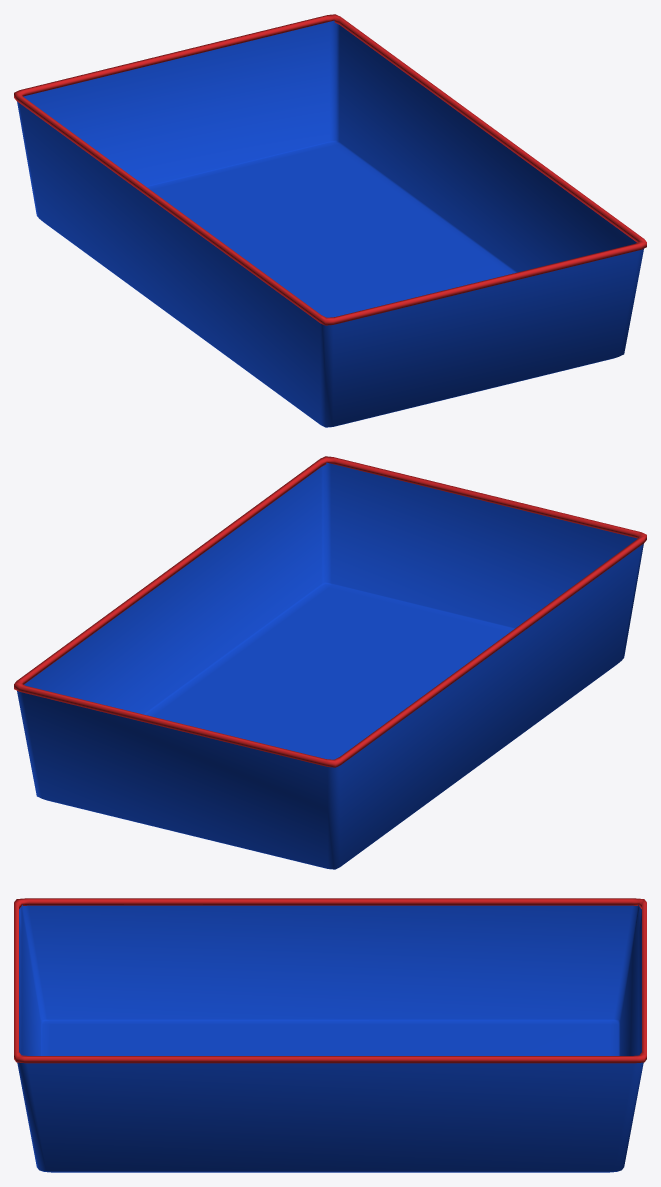
Rendered from MOD_FUR_Closet_02_Drawer_01.fbx.
3 views of the same model, one above another, from view 1: azimuth 30°, elevation 25°; view 2: azimuth 150°, elevation 25°; view 3: azimuth 270°, elevation 25° (orthographic).
Parts seen in each view (by area): view 1: MOD_FUR_Closet_02_Drawer_01; view 2: MOD_FUR_Closet_02_Drawer_01; view 3: MOD_FUR_Closet_02_Drawer_01.
Boxes of the visible parts, left/top/right/bottom form: MOD_FUR_Closet_02_Drawer_01: left=14, top=14, right=646, bottom=427; MOD_FUR_Closet_02_Drawer_01: left=14, top=456, right=646, bottom=869; MOD_FUR_Closet_02_Drawer_01: left=14, top=898, right=646, bottom=1172.
Bounding box in the file's own units: 0.5654 × 0.2004 × 0.9477.
